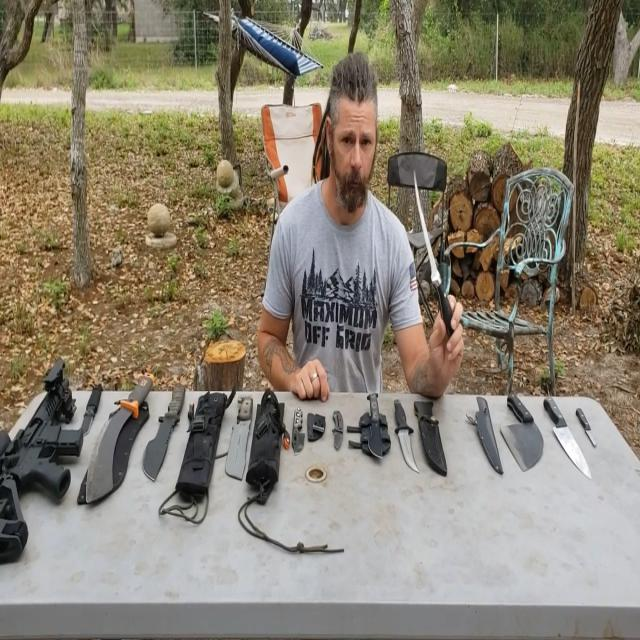knife: (404, 161, 475, 358), (81, 369, 152, 507), (533, 383, 597, 486), (143, 366, 194, 486), (497, 382, 544, 478), (224, 375, 261, 487), (388, 388, 426, 476), (361, 386, 393, 468), (76, 380, 110, 446), (326, 401, 354, 469), (575, 401, 600, 453), (295, 396, 315, 451)
long weapon: (0, 343, 88, 572)
